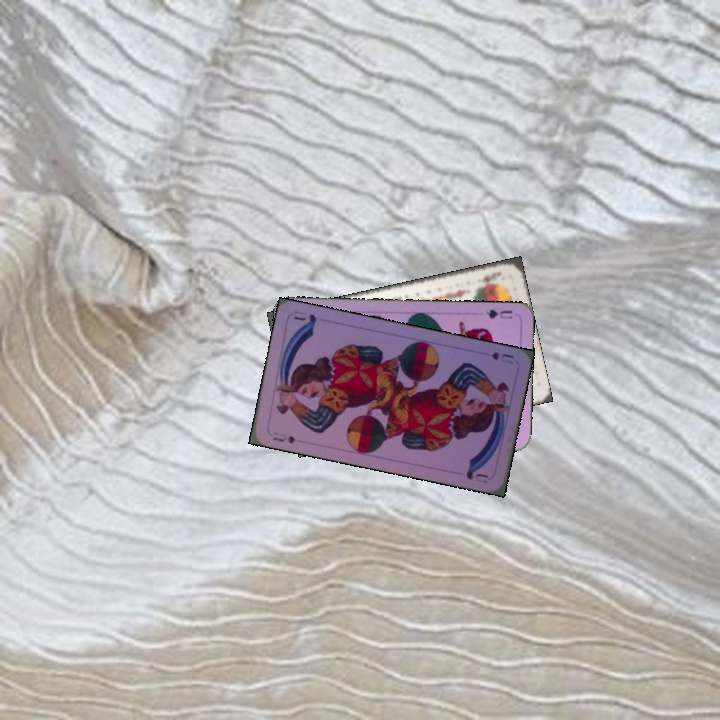GU: (482, 305, 514, 321)
SK: (478, 268, 503, 287)
SU: (269, 427, 298, 446), (487, 348, 517, 366)
